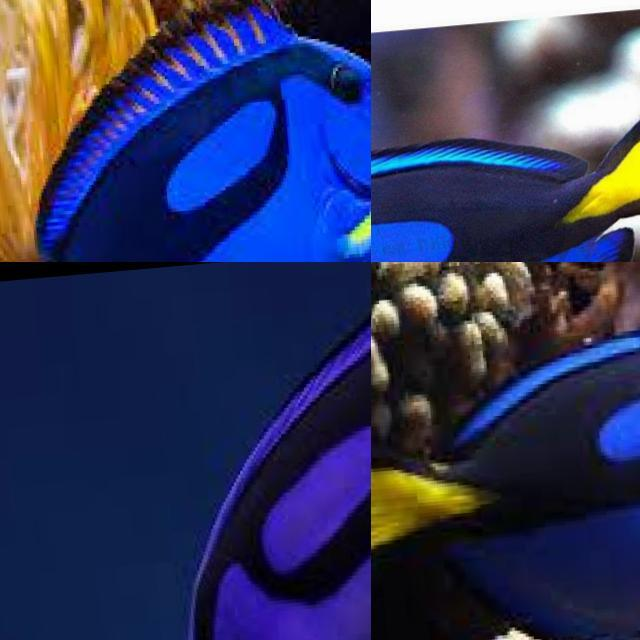BlueTang: (31, 12, 371, 262), (373, 345, 640, 639), (170, 317, 371, 640), (371, 123, 640, 262)
